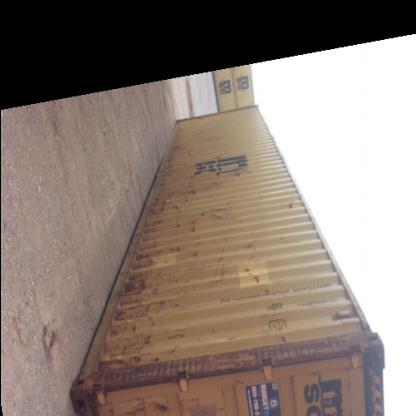Damage: (98, 266, 188, 376), (128, 238, 184, 262), (241, 263, 275, 298), (212, 247, 232, 290), (185, 166, 205, 200), (152, 197, 182, 215), (214, 204, 236, 228), (172, 140, 201, 158), (278, 326, 298, 352), (231, 168, 252, 182), (244, 238, 262, 254), (186, 218, 200, 238), (146, 218, 164, 233), (283, 200, 301, 212), (188, 250, 202, 262), (197, 210, 214, 219), (170, 223, 182, 235)
